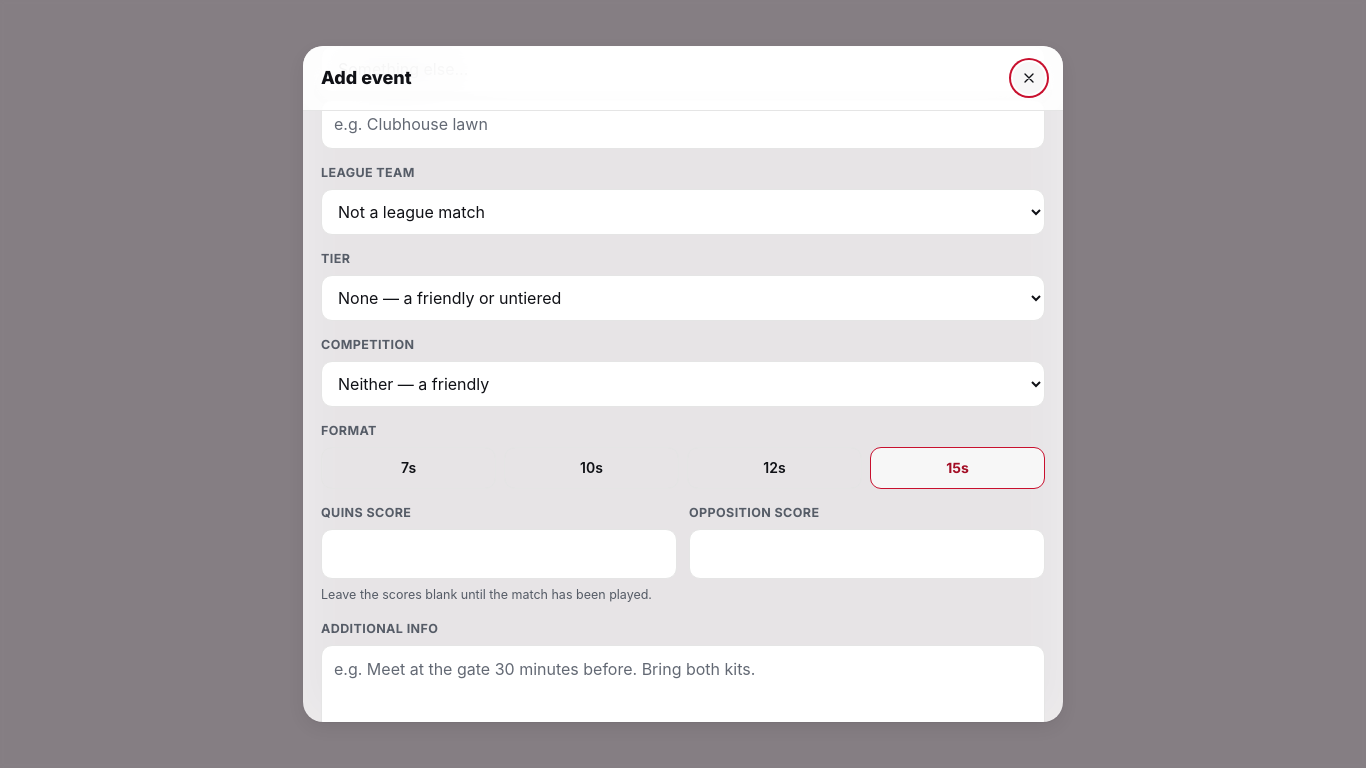
Test: Competition — league or tournament › ⚠️ shows Round only for League and Tournament only for Tournament
(page scrolled)
Expected: the field labelled "round" is not shown
Expected: the field labelled "tournament" is not shown
Select "League" in the dropdown labelled "Competition" at point(683, 384), box x1=321 y1=361 x2=1045 y2=407
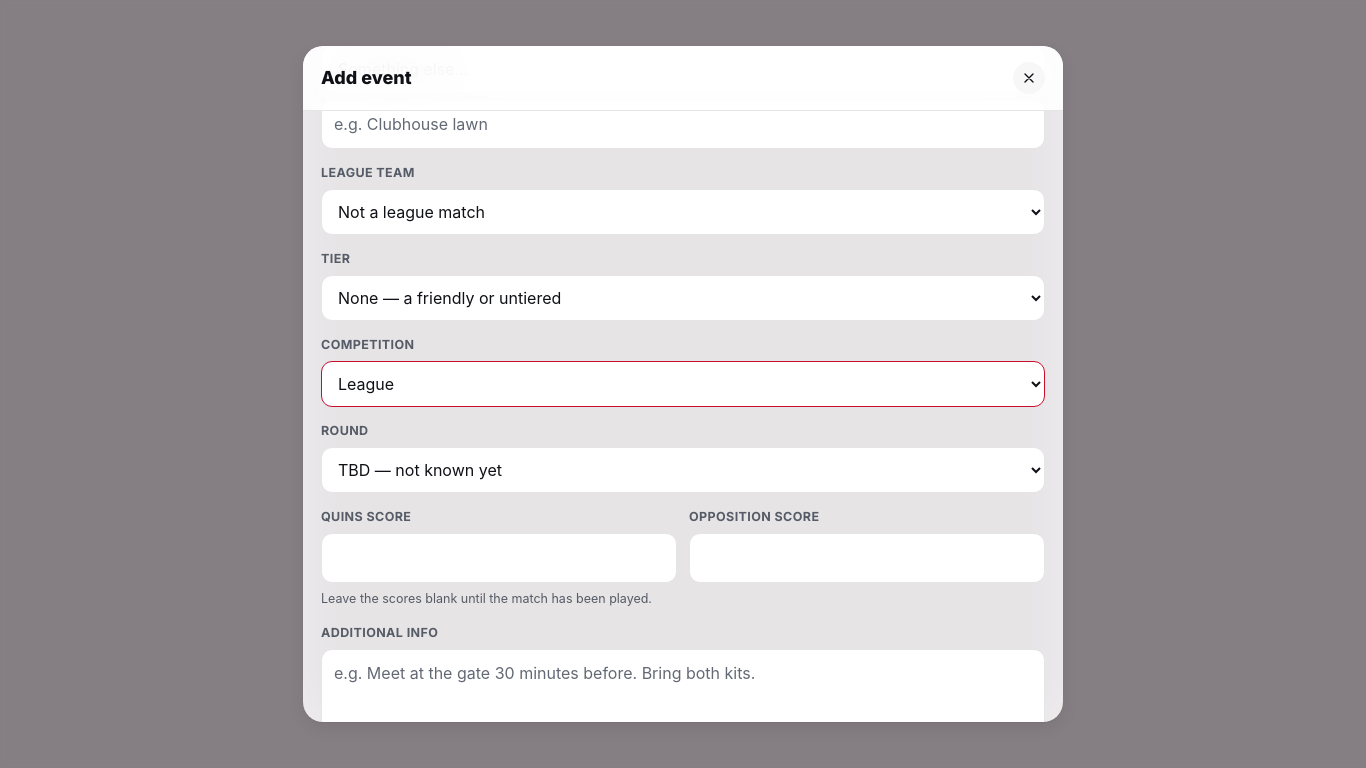
Expected: the field labelled "tournament" is not shown
Result: the dropdown labelled "Round" is shown at x1=321 y1=447 x2=1045 y2=493
Select "Tournament" in the dropdown labelled "Competition" at point(683, 384), box x1=321 y1=361 x2=1045 y2=407
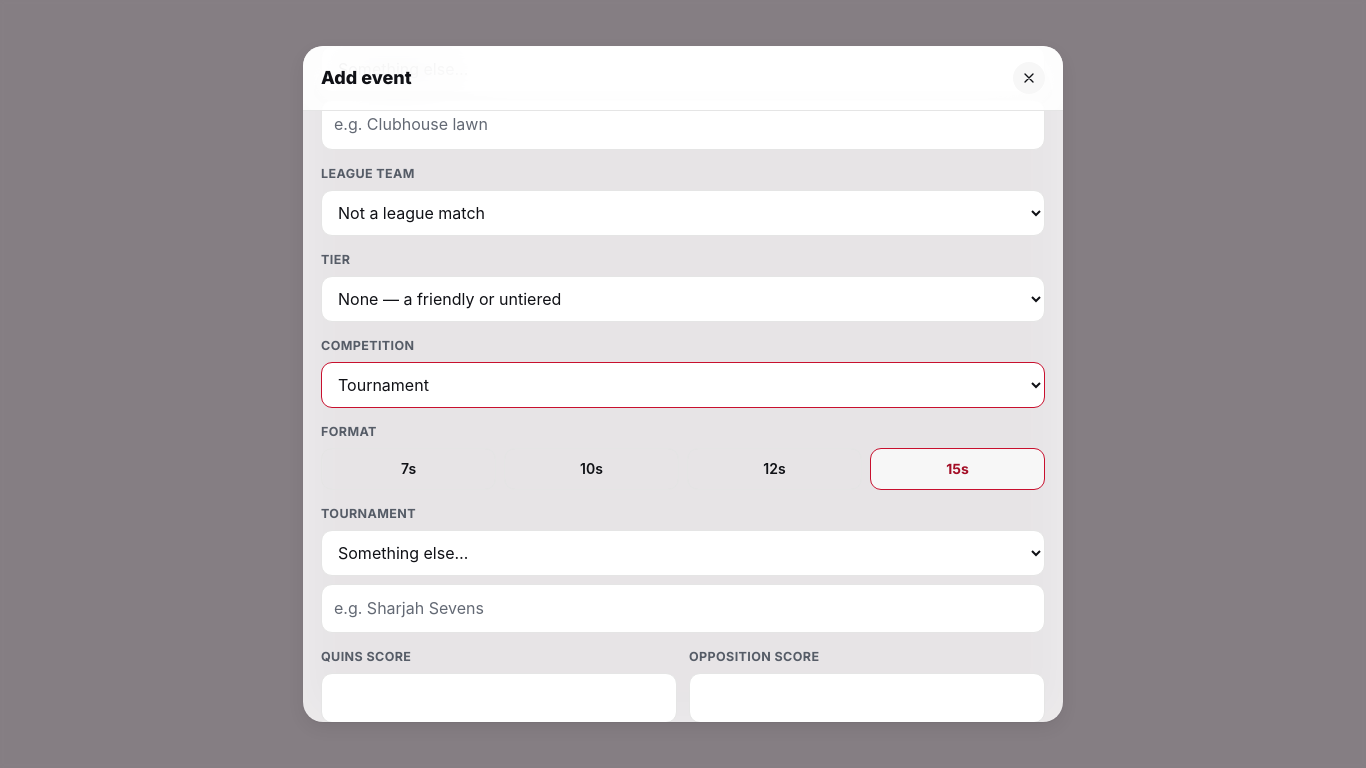
Result: the label labelled "Round" is gone
Result: the dropdown labelled "Tournament" is shown at x1=321 y1=530 x2=1045 y2=576
